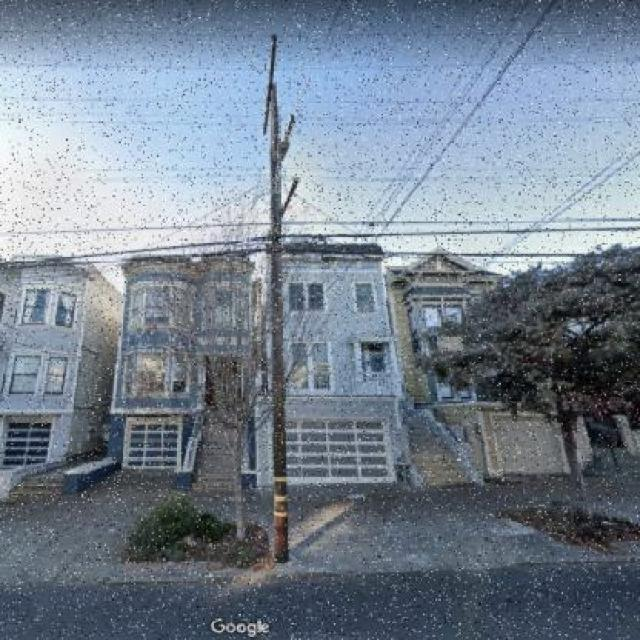crossarm: (262, 38, 275, 137), (279, 118, 296, 162), (282, 178, 298, 214)
pole: (265, 97, 291, 560)
wire: (372, 0, 562, 246), (359, 2, 531, 246), (0, 225, 638, 268), (479, 152, 639, 272), (480, 158, 616, 269), (11, 216, 638, 235), (379, 252, 628, 259)
